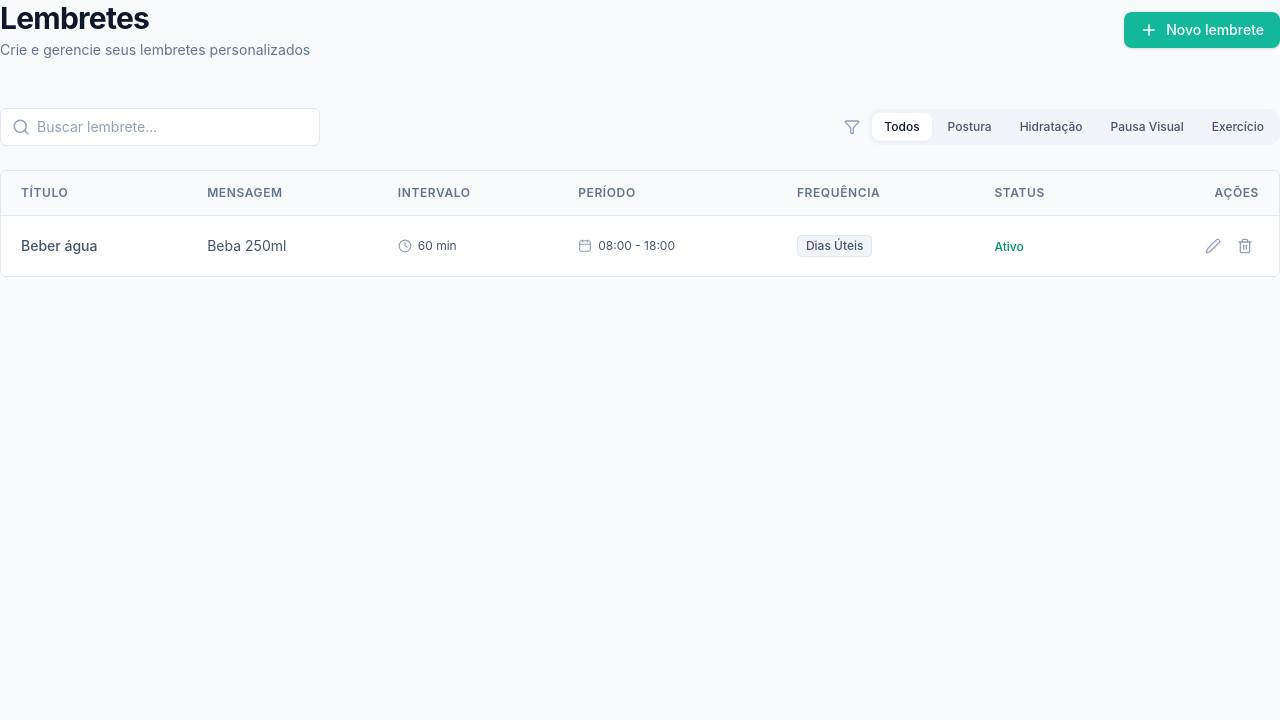
it: Avisos de ergonomia em Configurações › mantém a edição apenas para os lembretes personalizados
Step 1. Click the button titled "Editar lembrete" → {"x": 1213, "y": 246}, box left=1199, top=232, right=1227, bottom=260
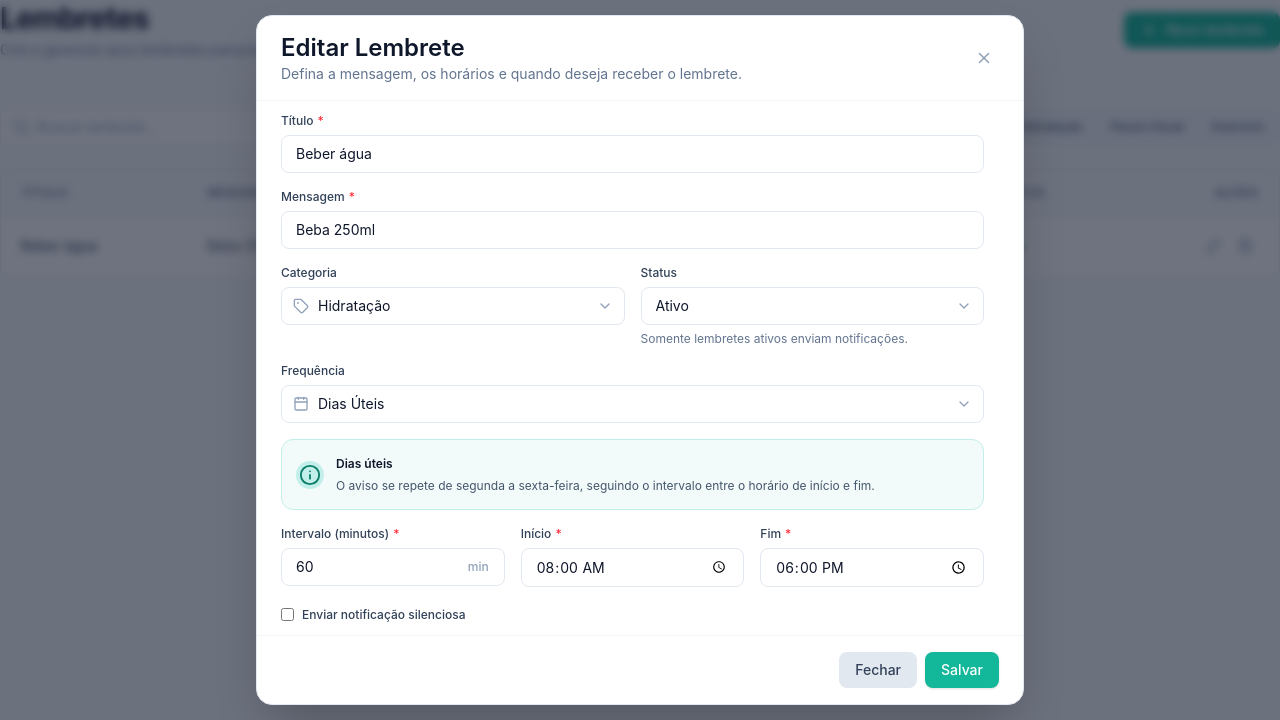
Check: the text "Editar Lembrete" is shown, box left=281, top=33, right=465, bottom=62
